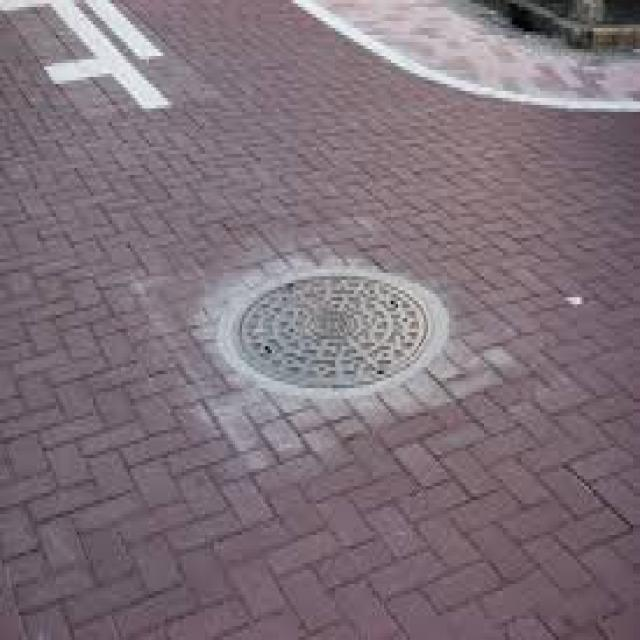manhole: (229, 270, 432, 393)
